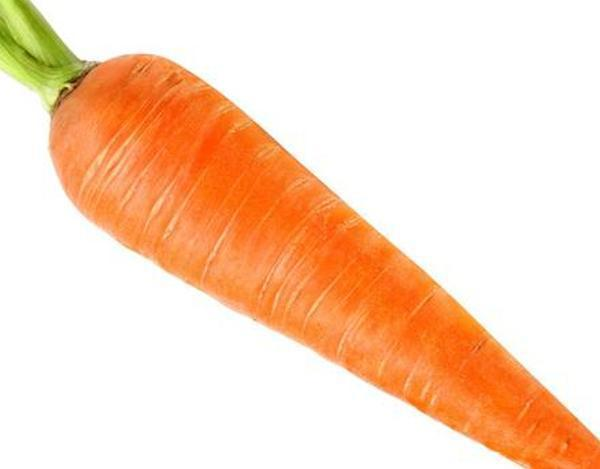carrot: (16, 29, 600, 468)
